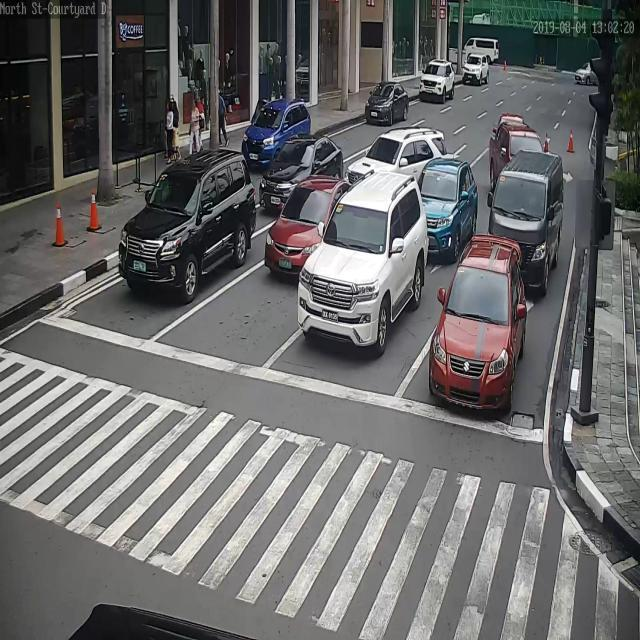car: (297, 171, 429, 354), (117, 148, 256, 304), (427, 235, 528, 412), (262, 178, 355, 282), (260, 134, 347, 216), (418, 161, 480, 266), (241, 97, 312, 174), (355, 126, 449, 180), (488, 124, 543, 192), (364, 81, 410, 126), (421, 60, 455, 103), (461, 55, 489, 86), (574, 59, 598, 85)
van: (487, 152, 566, 295), (463, 37, 499, 64)
